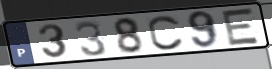3: (74, 19, 108, 58), (37, 23, 69, 60)
8: (113, 16, 144, 55)
9: (185, 9, 219, 51)
C: (147, 14, 186, 52)
E: (220, 6, 263, 47)
